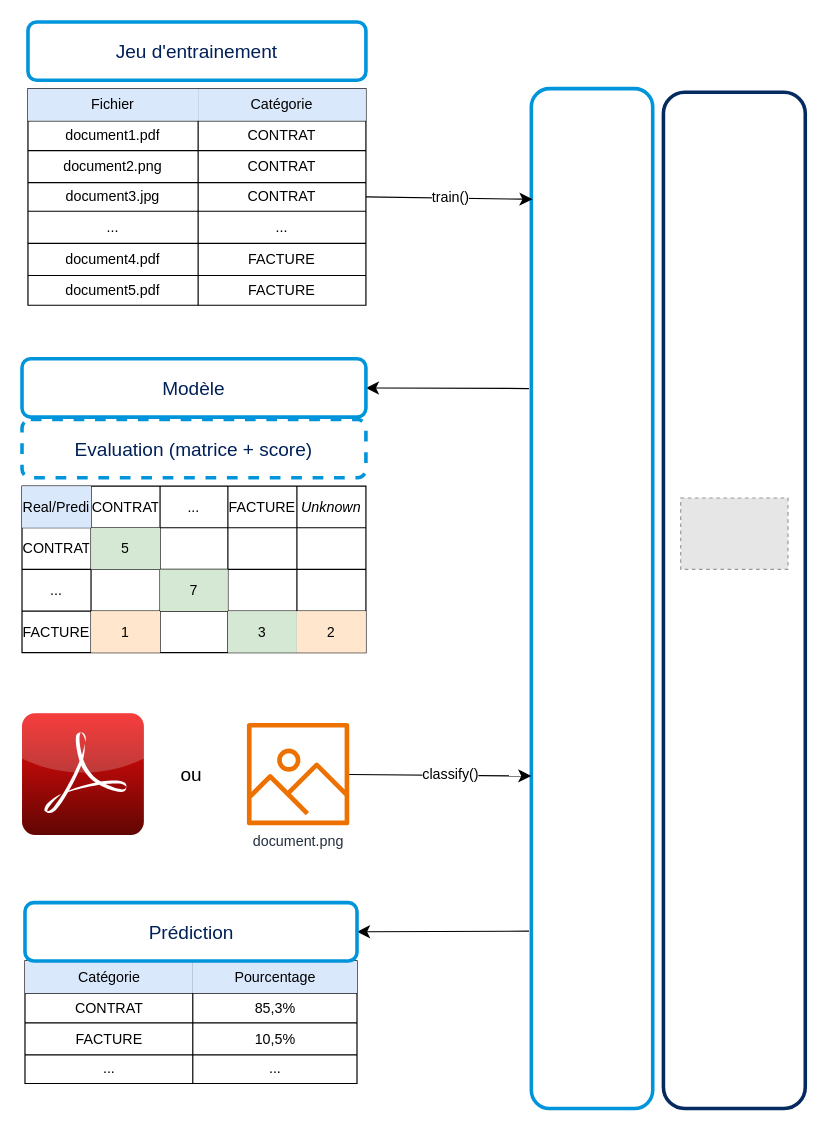
This 828x1131 diagram has some shape labels left out. Grey dashed boxes stand in for pictures. The box of each missing label's shape, as (x1, y1, x2, y2) in pixels:
ABBYY FRE 12: (661, 90, 806, 1110)
Connecteur ABBYY: (529, 86, 654, 1110)
document.pdf: (21, 712, 144, 835)
